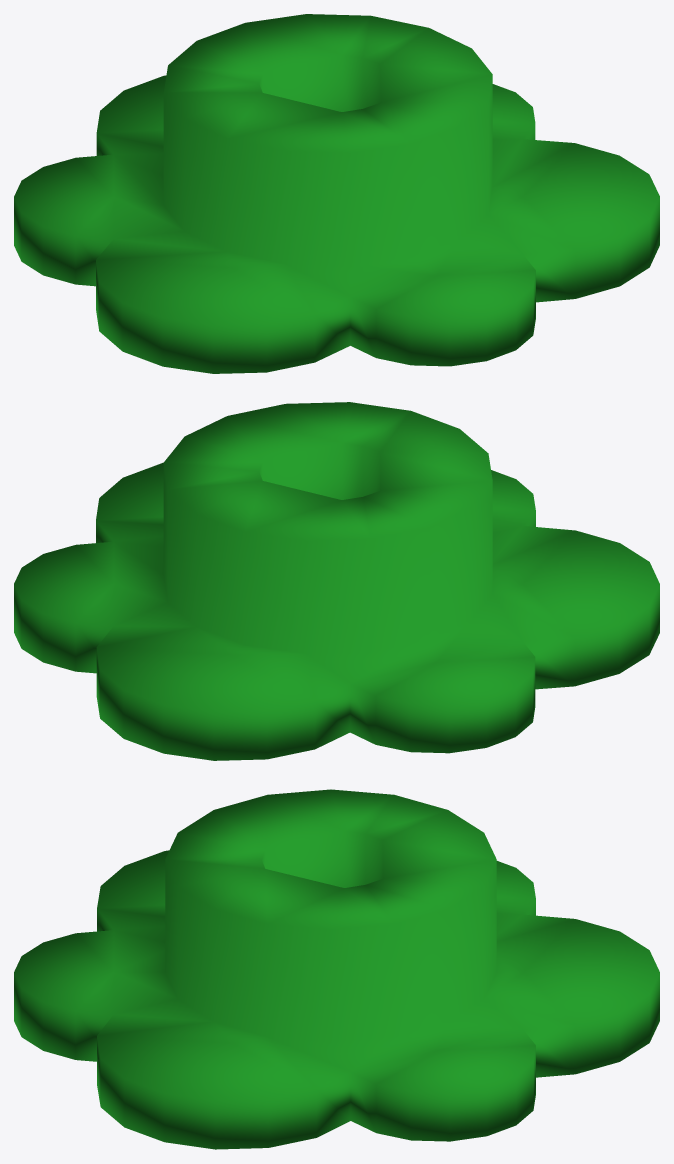
File: flower2.dae
3 renders of one model, top to bottom at view 1: azimuth 30°, elevation 25°; view 2: azimuth 150°, elevation 25°; view 3: azimuth 270°, elevation 25°, orthographic.
Visible parts, largest first — view 1: Part.0; view 2: Part.0; view 3: Part.0.
Part boxes in pixels (x1=…): Part.0: x1=14, y1=14, x2=659, y2=373; Part.0: x1=14, y1=402, x2=659, y2=760; Part.0: x1=14, y1=789, x2=659, y2=1149.
Size of the model in its own units: 0.0088 by 0.00935 by 0.00258.
